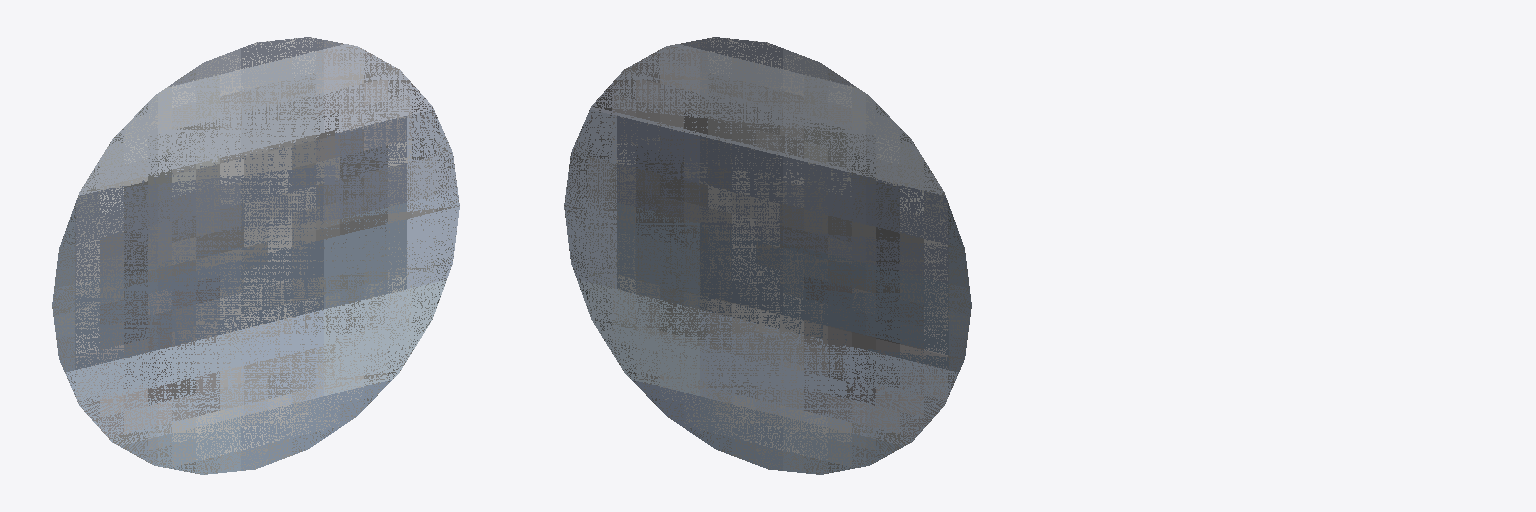
3 views of the same model, side by side, from view 1: azimuth 30°, elevation 25°; view 2: azimuth 150°, elevation 25°; view 3: azimuth 270°, elevation 25° (orthographic).
Visible parts, largest first — view 1: 3dw.5334cfe15f80099f15ac[number redacted]aee7/Model/mesh1/mesh1-geometry/; view 2: 3dw.5334cfe15f80099f15ac[number redacted]aee7/Model/mesh1/mesh1-geometry/; view 3: none.
Part boxes in pixels (bbox=[...]): 3dw.5334cfe15f80099f15ac[number redacted]aee7/Model/mesh1/mesh1-geometry/: bbox=[52, 37, 459, 474]; 3dw.5334cfe15f80099f15ac[number redacted]aee7/Model/mesh1/mesh1-geometry/: bbox=[564, 37, 971, 474].
Size of the model in its own units: 0.0692 by 0.0692 by 0.
Materials: 2 (2 with a texture image).